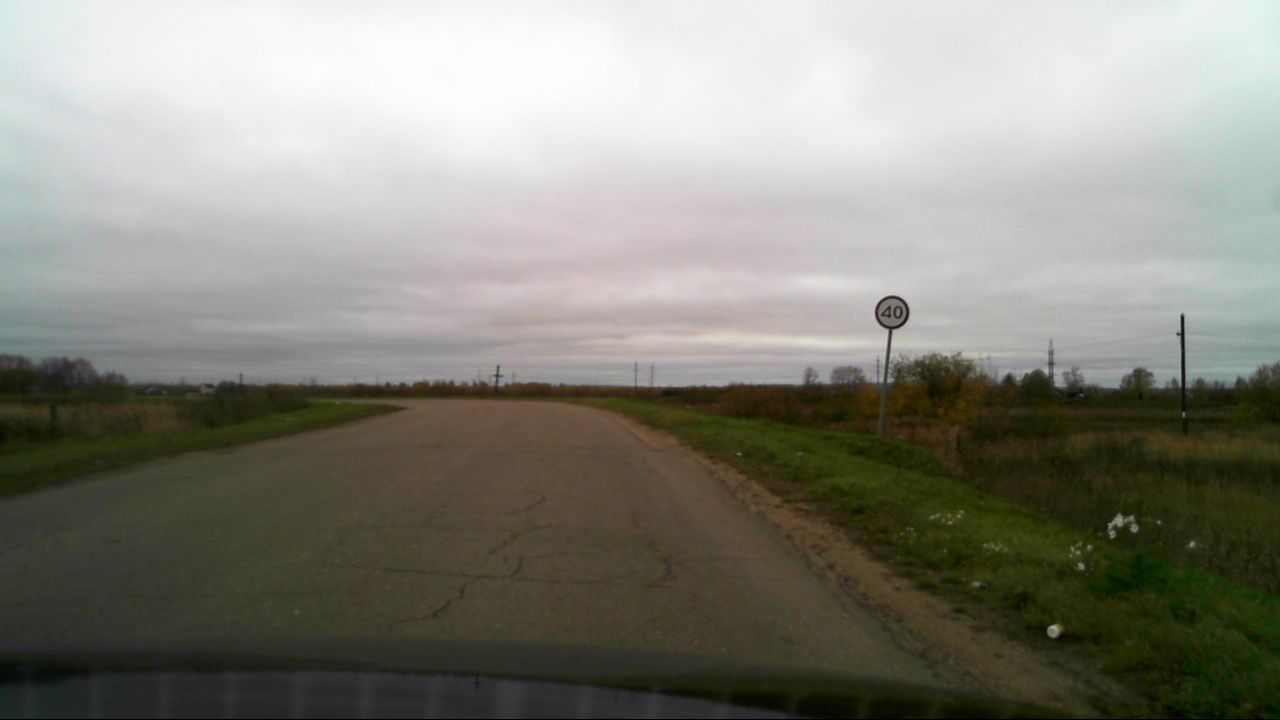speed_warning_40: (874, 295, 909, 330)
